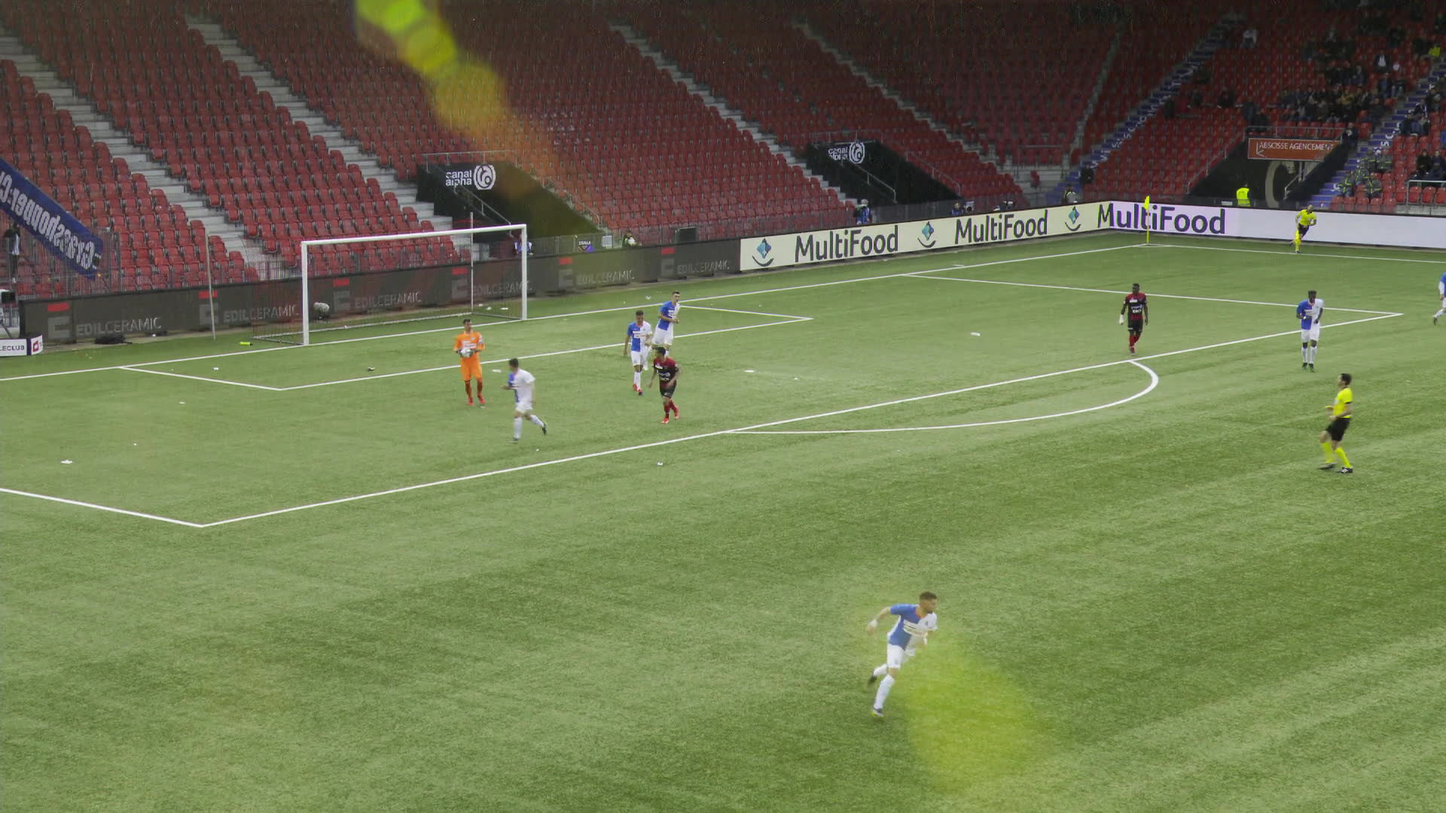ball: (461, 348, 471, 356)
player: (863, 595, 938, 710), (503, 361, 542, 446), (453, 318, 485, 407), (648, 293, 681, 373), (1294, 291, 1325, 373), (649, 346, 681, 424), (623, 310, 652, 396), (1119, 283, 1149, 355), (1432, 269, 1445, 321)
referee: (1305, 369, 1359, 473), (1290, 204, 1316, 252)
